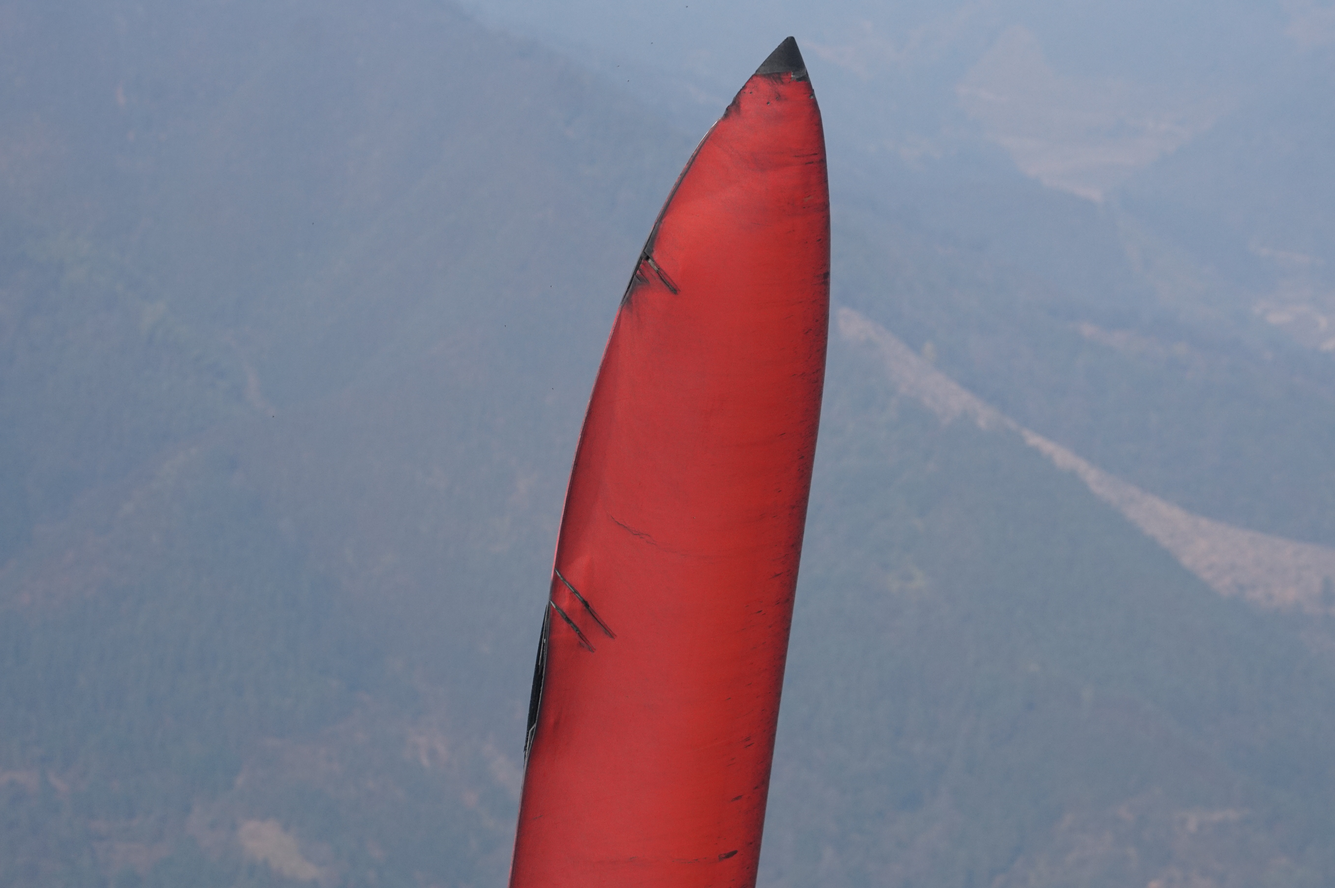Damage: (523, 602, 551, 772), (555, 566, 617, 640), (620, 223, 656, 306), (551, 599, 596, 652), (647, 259, 680, 296)
